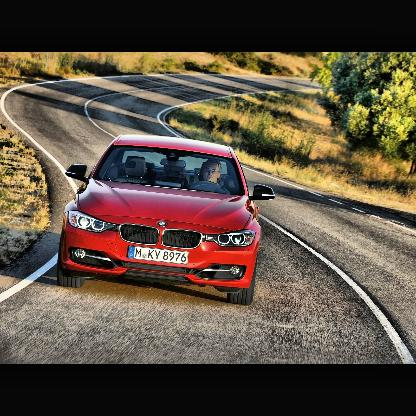BMW 3 Series Sedan 2012: (58, 134, 274, 306)
